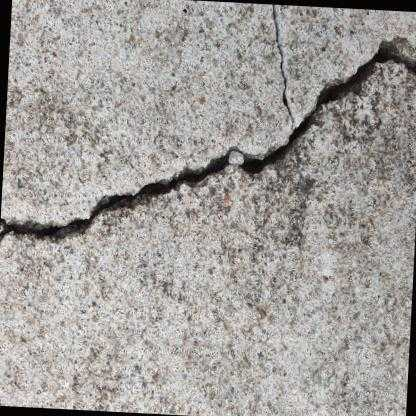crack: (0, 3, 416, 243)
